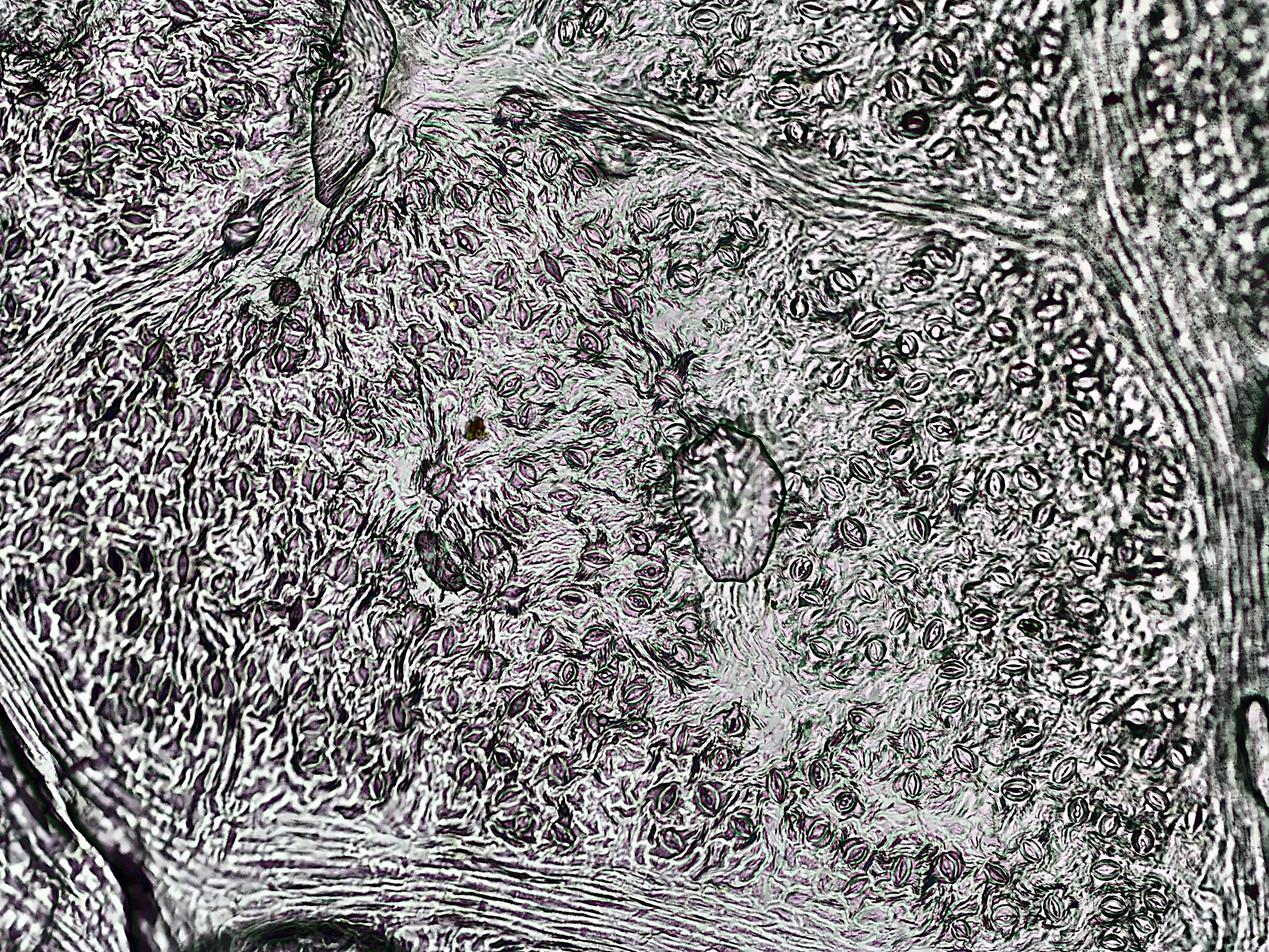stomata: (222, 205, 263, 237), (276, 527, 307, 561), (92, 229, 123, 261), (171, 546, 196, 584), (695, 781, 722, 816), (850, 312, 885, 339), (799, 40, 838, 64), (934, 43, 965, 73), (1001, 776, 1033, 804), (925, 412, 957, 440), (1030, 497, 1057, 530), (118, 207, 155, 231), (654, 781, 680, 815), (284, 595, 306, 635), (839, 516, 868, 546), (580, 2, 608, 33), (15, 515, 39, 551), (935, 851, 961, 884), (496, 95, 533, 118), (951, 744, 980, 773), (894, 0, 923, 29), (923, 313, 954, 340), (0, 228, 26, 260), (907, 466, 941, 490), (847, 454, 876, 482), (817, 475, 847, 502), (74, 78, 105, 104), (242, 601, 268, 632), (406, 178, 432, 209), (580, 548, 615, 571), (769, 81, 801, 106), (947, 367, 979, 392), (823, 70, 847, 103), (142, 337, 166, 370), (965, 607, 998, 631), (495, 370, 523, 398), (900, 725, 923, 759), (505, 689, 531, 719), (546, 755, 572, 785), (353, 299, 378, 330), (654, 372, 685, 397), (764, 770, 788, 802), (284, 412, 307, 445), (901, 269, 934, 292), (156, 54, 184, 81), (634, 560, 670, 581), (550, 820, 579, 846), (887, 607, 913, 636), (1129, 827, 1154, 857), (888, 72, 910, 106), (722, 702, 744, 736), (922, 616, 944, 650), (909, 511, 931, 545), (672, 200, 696, 231), (580, 624, 611, 648), (826, 359, 850, 390), (490, 259, 513, 291), (1012, 725, 1044, 748), (207, 54, 242, 75), (369, 198, 390, 233), (62, 542, 83, 577), (989, 316, 1016, 343), (178, 92, 206, 118), (784, 119, 810, 147), (66, 446, 92, 474), (542, 251, 564, 284), (1143, 496, 1176, 518), (874, 395, 907, 417), (972, 78, 1001, 103), (1011, 360, 1041, 384), (267, 467, 288, 501), (671, 723, 692, 757), (1067, 795, 1090, 826), (887, 560, 918, 583), (953, 290, 984, 313), (828, 131, 850, 163), (1090, 857, 1122, 879), (1086, 701, 1118, 723), (1052, 756, 1078, 783), (1159, 461, 1186, 487), (301, 711, 329, 736), (609, 286, 634, 314), (1041, 892, 1065, 921), (476, 650, 497, 683), (466, 291, 487, 324), (935, 657, 968, 678), (225, 404, 248, 434), (496, 782, 526, 805), (989, 903, 1019, 926), (224, 29, 255, 51), (454, 757, 476, 788), (892, 855, 914, 886), (389, 369, 415, 395), (536, 623, 557, 655), (19, 463, 38, 498), (208, 662, 227, 697), (942, 0, 977, 19), (105, 547, 127, 577), (643, 458, 673, 480), (996, 654, 1029, 674), (1050, 643, 1083, 663), (1017, 462, 1039, 492), (93, 582, 114, 613), (572, 161, 598, 186), (1016, 420, 1042, 445), (56, 117, 80, 144), (143, 486, 161, 522), (577, 330, 604, 354), (663, 419, 690, 443), (983, 861, 1010, 885), (450, 182, 473, 210), (0, 287, 20, 319), (691, 8, 721, 29), (634, 205, 655, 235), (1067, 554, 1097, 575), (541, 144, 560, 177), (514, 458, 539, 483), (844, 874, 869, 899), (537, 365, 563, 389), (733, 215, 757, 241), (789, 556, 813, 582), (628, 525, 651, 552), (623, 715, 650, 738), (887, 441, 914, 464), (928, 136, 955, 159), (135, 541, 155, 572), (871, 422, 902, 442), (990, 566, 1018, 588), (1125, 445, 1143, 479), (419, 261, 440, 290), (460, 726, 489, 747), (512, 301, 533, 330), (809, 816, 830, 845), (955, 535, 976, 564), (16, 89, 48, 108), (125, 653, 144, 685), (137, 30, 167, 50), (108, 490, 128, 520), (492, 745, 516, 770), (548, 486, 578, 506), (808, 760, 828, 790), (428, 469, 451, 495), (1100, 893, 1126, 916), (1097, 811, 1120, 837), (1144, 788, 1170, 811), (949, 478, 975, 501), (125, 404, 142, 439), (716, 52, 738, 79), (581, 225, 608, 247), (1075, 594, 1102, 616), (1116, 539, 1138, 566), (903, 372, 930, 394), (927, 246, 954, 268), (271, 340, 290, 371), (11, 51, 40, 71), (110, 96, 130, 125), (583, 707, 603, 736), (1145, 738, 1165, 767), (418, 364, 442, 388), (717, 244, 741, 268), (557, 588, 589, 606), (844, 841, 868, 865), (315, 623, 339, 647), (298, 745, 323, 768), (1143, 889, 1168, 912), (834, 268, 859, 291), (455, 228, 477, 254), (672, 266, 698, 288), (476, 533, 498, 559), (676, 611, 702, 633), (593, 664, 619, 686), (733, 812, 755, 838), (874, 354, 896, 380), (731, 11, 750, 41), (443, 685, 462, 715), (492, 188, 513, 215), (837, 613, 858, 640), (1032, 590, 1059, 611), (985, 470, 1006, 497), (196, 487, 213, 520), (391, 698, 408, 731), (1185, 803, 1202, 836), (671, 642, 694, 666), (850, 709, 874, 732), (64, 597, 83, 626), (511, 808, 533, 833), (564, 447, 589, 469), (507, 507, 529, 532), (623, 682, 648, 704), (832, 791, 857, 813), (591, 417, 617, 438), (1021, 837, 1042, 863), (1097, 749, 1123, 770), (865, 637, 886, 663), (1017, 617, 1043, 638), (151, 621, 168, 653), (91, 141, 118, 161), (549, 315, 569, 342), (711, 743, 731, 770), (904, 768, 922, 798), (189, 331, 205, 364), (619, 256, 643, 278), (662, 829, 686, 851), (1133, 913, 1157, 935), (921, 71, 943, 95), (167, 0, 198, 17), (311, 469, 328, 500), (348, 398, 373, 419), (809, 637, 834, 658), (904, 108, 925, 133), (1084, 450, 1102, 479), (501, 146, 527, 166), (125, 608, 145, 634), (140, 143, 167, 162), (625, 592, 652, 611), (1064, 669, 1091, 688), (170, 400, 186, 432), (797, 0, 827, 17), (440, 626, 457, 656), (1099, 933, 1129, 950), (855, 579, 877, 602), (1065, 411, 1089, 432), (517, 404, 537, 429), (899, 331, 919, 356), (558, 17, 576, 44), (379, 619, 401, 641), (236, 469, 252, 499), (799, 587, 823, 607), (1031, 545, 1056, 564), (559, 661, 577, 687), (939, 693, 965, 711), (322, 386, 338, 415), (310, 43, 330, 66), (66, 41, 90, 60), (1126, 706, 1151, 724), (370, 771, 386, 799), (443, 351, 459, 379), (340, 505, 356, 532), (388, 573, 405, 598), (791, 293, 808, 318), (952, 919, 972, 940), (1161, 701, 1180, 723), (59, 149, 85, 165), (980, 701, 1002, 715), (1170, 747, 1184, 767)
